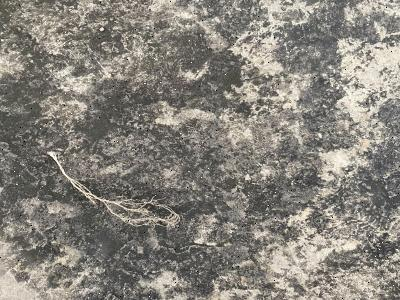Root: (47, 152, 102, 202)
